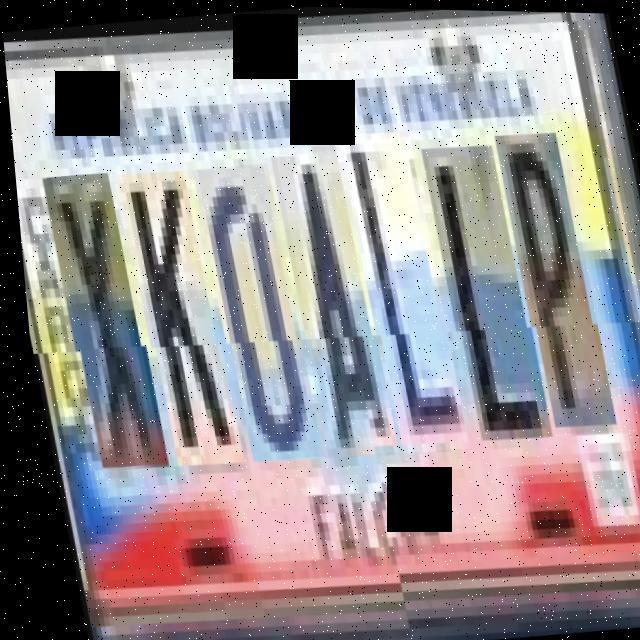0: (193, 160, 315, 462)
A: (271, 147, 391, 457)
K: (118, 165, 236, 466)
L: (340, 133, 462, 453), (424, 145, 546, 447)
P: (497, 133, 610, 433)
X: (42, 171, 160, 471)
